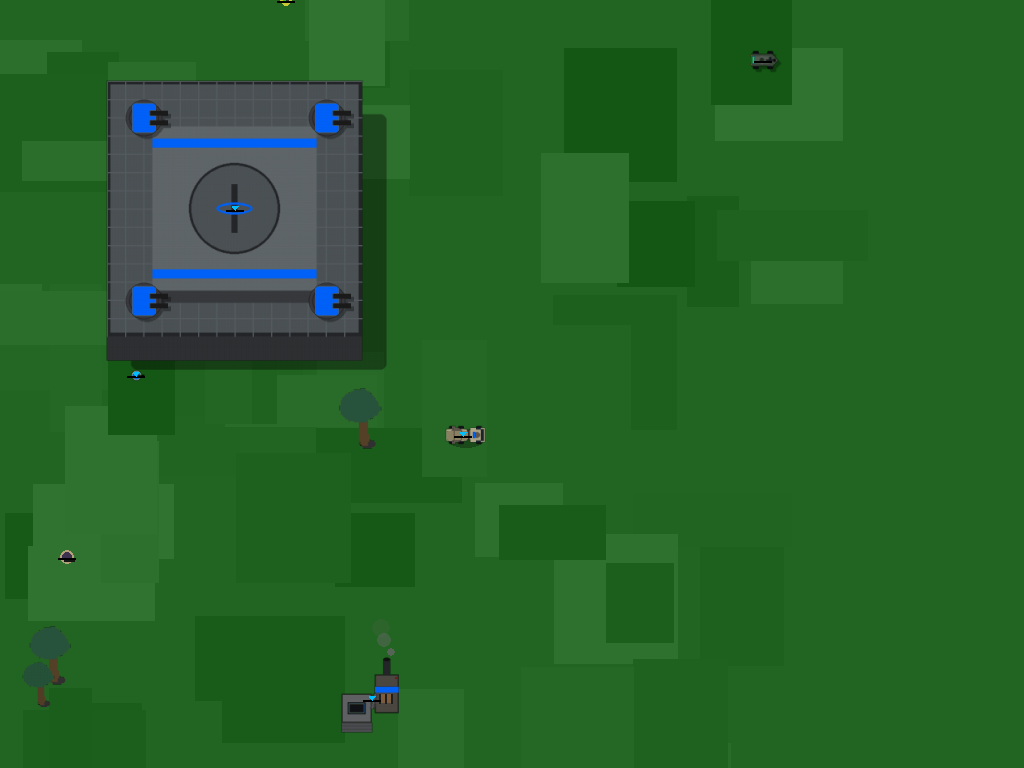ArmoredCar: (442, 414, 484, 456)
FactoryBuilding: (336, 663, 408, 735)
FighterJet_usa: (82, 56, 386, 360)
M1A2_chn: (53, 543, 80, 570)
M1A2_usa: (748, 44, 778, 74)
PowerPlant: (122, 362, 148, 388)
Rifleman: (272, 0, 298, 26)
